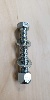FinishedAssembly: (15, 20, 35, 87)
